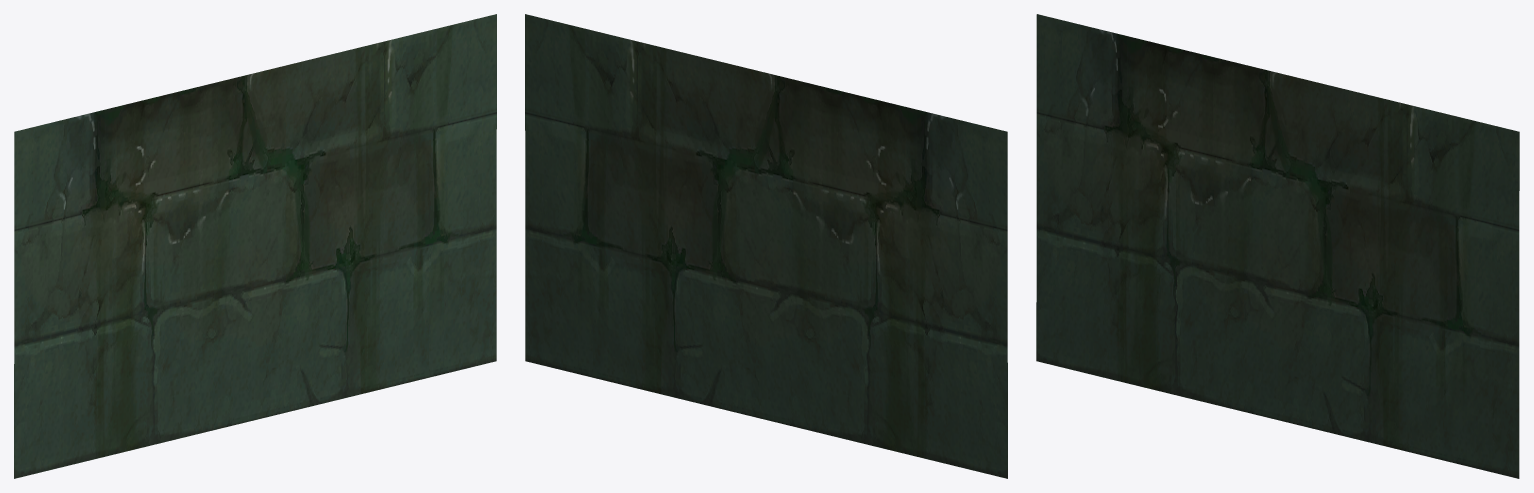
Rendered from stemple_half_straight_09.fbx.
3 views of the same model, side by side, from view 1: azimuth 30°, elevation 25°; view 2: azimuth 150°, elevation 25°; view 3: azimuth 330°, elevation 25° (orthographic).
Parts seen in each view (by area): view 1: obj0.418; view 2: obj0.418; view 3: obj0.418.
Boxes of the visible parts, bbox=[...] form: obj0.418: bbox=[14, 14, 496, 478]; obj0.418: bbox=[525, 14, 1007, 478]; obj0.418: bbox=[1036, 14, 1519, 478].
Size of the model in its own units: 4 by 2.75 by 0.00037.
